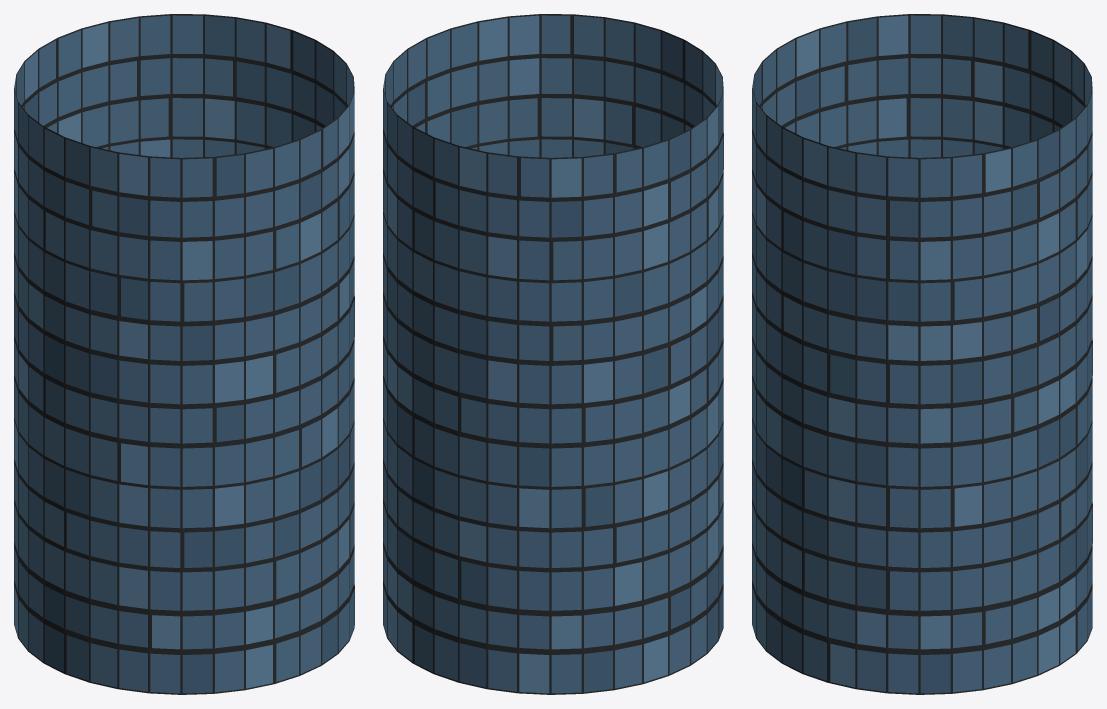
The model's file is bld_round.glb.
3 renders of one model, left to right at view 1: azimuth 30°, elevation 25°; view 2: azimuth 150°, elevation 25°; view 3: azimuth 270°, elevation 25°, orthographic.
Visible parts, largest first — view 1: SM_Bld_OfficeRound_01; view 2: SM_Bld_OfficeRound_01; view 3: SM_Bld_OfficeRound_01.
Boxes of the visible parts, box(x1,y1,x2,y2) form: SM_Bld_OfficeRound_01: box(14, 14, 354, 694); SM_Bld_OfficeRound_01: box(383, 14, 723, 694); SM_Bld_OfficeRound_01: box(752, 14, 1092, 694).
Size of the model in its own units: 22.04 by 38.36 by 22.05.
1 material, 1 textured.
